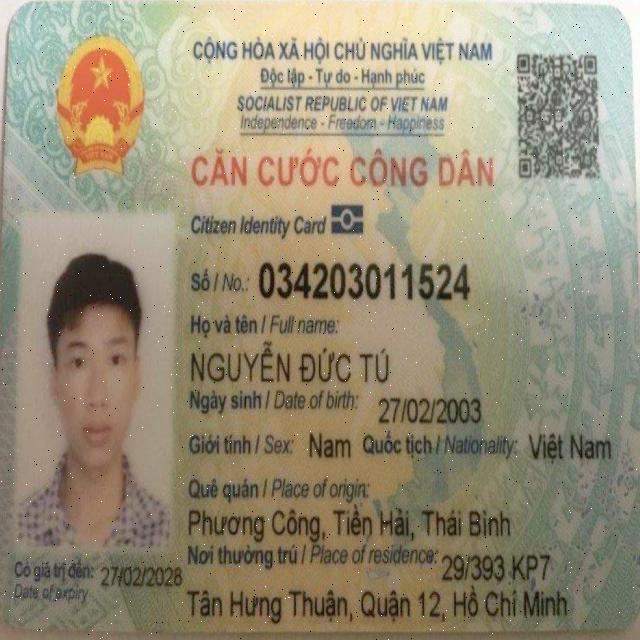current_place: (183, 584, 571, 628), (439, 549, 553, 584)
dob: (376, 393, 483, 429)
expire_date: (99, 563, 184, 589)
gender: (307, 427, 353, 465)
id: (256, 256, 473, 307)
name: (188, 337, 391, 388)
nationality: (527, 429, 613, 467)
origin_place: (186, 501, 512, 546)
